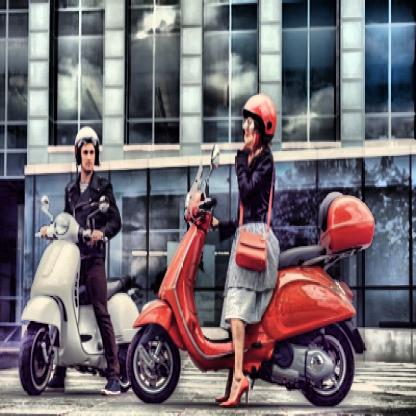wear: (241, 90, 271, 156), (73, 127, 99, 173)
